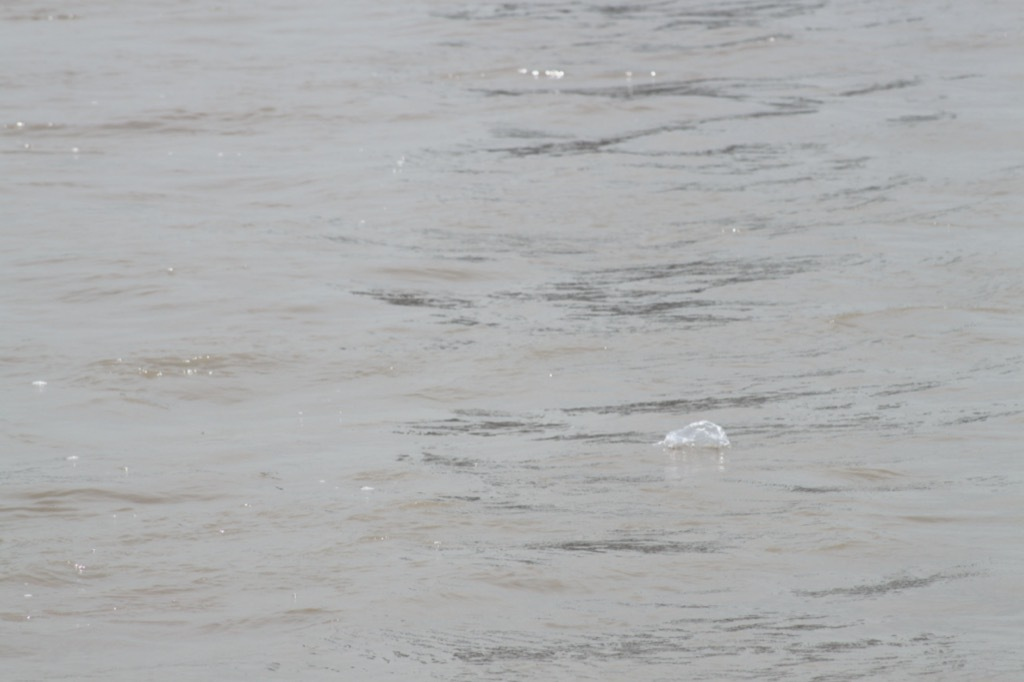plastic: (634, 392, 752, 503)
